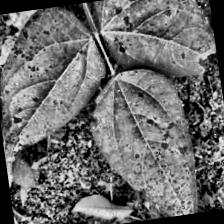ALS: (81, 59, 213, 224), (0, 2, 113, 189), (93, 0, 218, 90)
